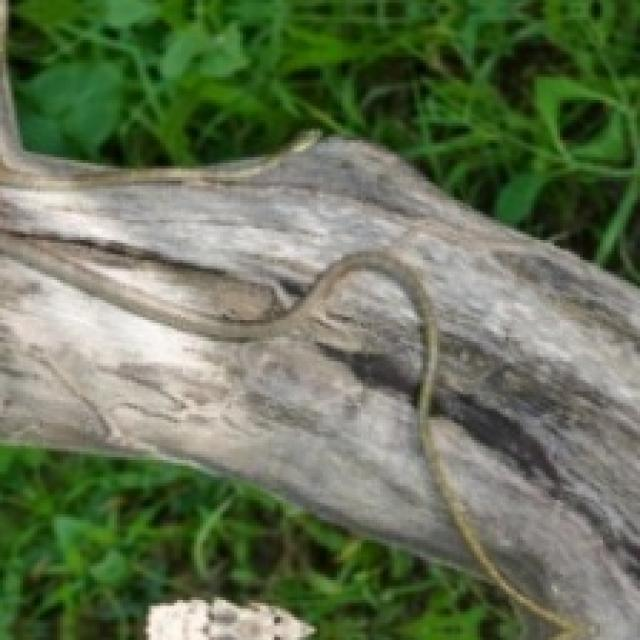paradise tree snake: (0, 230, 579, 640), (0, 118, 322, 189)
